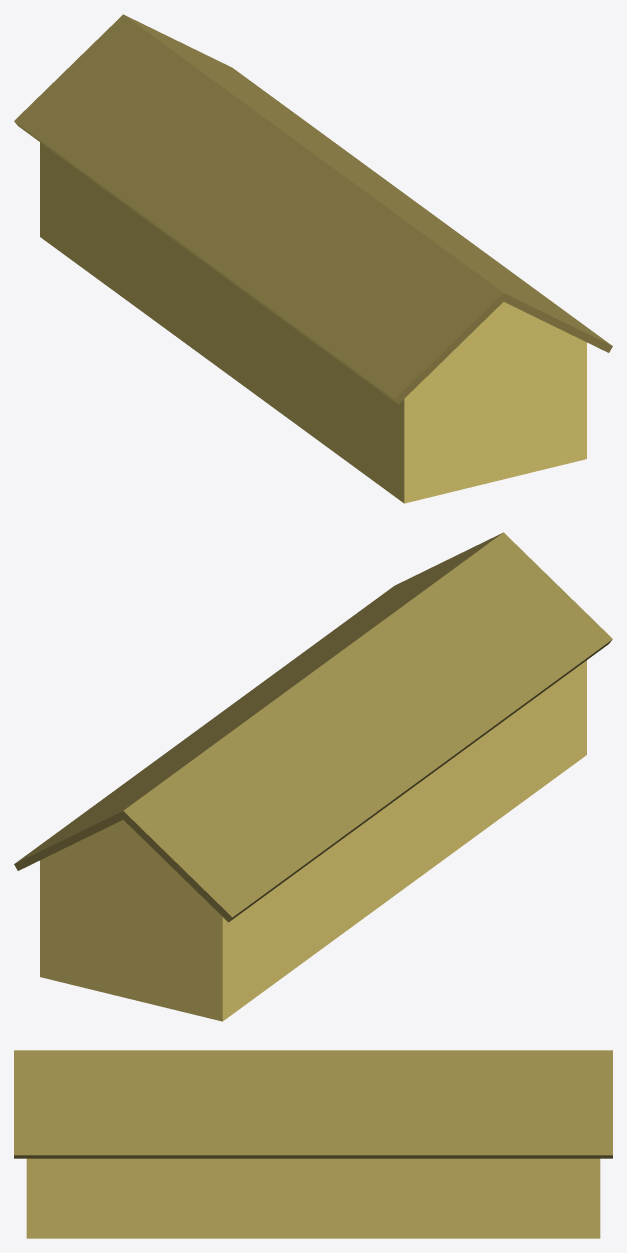
File: result.glb
The picture shows the model from 3 angles, top to bottom: view 1: azimuth 30°, elevation 25°; view 2: azimuth 150°, elevation 25°; view 3: azimuth 270°, elevation 25°; orthographic projection. The views are drawn at different scales.
Visible parts, largest first — view 1: 9ce33b2f-c7ab-4b21-a9d1-53efbc51b160__undefined (×2), 72f7a5a3-fa6e-43bd-9cb8-be3086101604__undefined; view 2: 9ce33b2f-c7ab-4b21-a9d1-53efbc51b160__undefined (×2), 72f7a5a3-fa6e-43bd-9cb8-be3086101604__undefined; view 3: 9ce33b2f-c7ab-4b21-a9d1-53efbc51b160__undefined, 72f7a5a3-fa6e-43bd-9cb8-be3086101604__undefined.
Boxes of the visible parts, left/top/right/bottom form: 9ce33b2f-c7ab-4b21-a9d1-53efbc51b160__undefined (×2): left=14, top=14, right=612, bottom=404; 72f7a5a3-fa6e-43bd-9cb8-be3086101604__undefined: left=40, top=142, right=586, bottom=503; 9ce33b2f-c7ab-4b21-a9d1-53efbc51b160__undefined (×2): left=14, top=532, right=612, bottom=922; 72f7a5a3-fa6e-43bd-9cb8-be3086101604__undefined: left=40, top=660, right=586, bottom=1021; 9ce33b2f-c7ab-4b21-a9d1-53efbc51b160__undefined: left=14, top=1050, right=612, bottom=1158; 72f7a5a3-fa6e-43bd-9cb8-be3086101604__undefined: left=26, top=1158, right=600, bottom=1238.
Bounding box in the file's own units: 785 × 667 × 2366.
